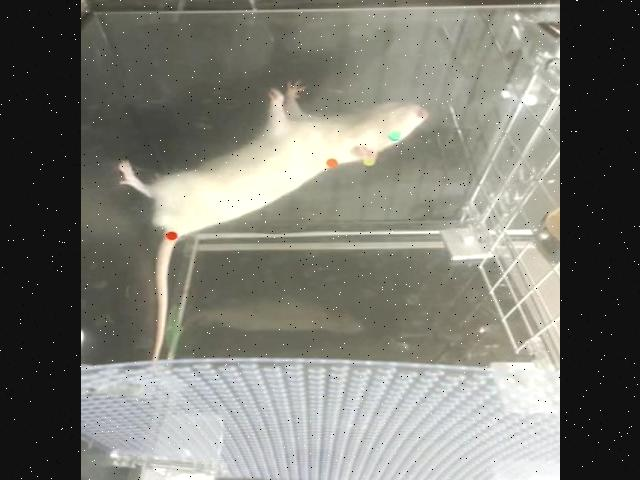Tikus: (117, 76, 431, 343)
